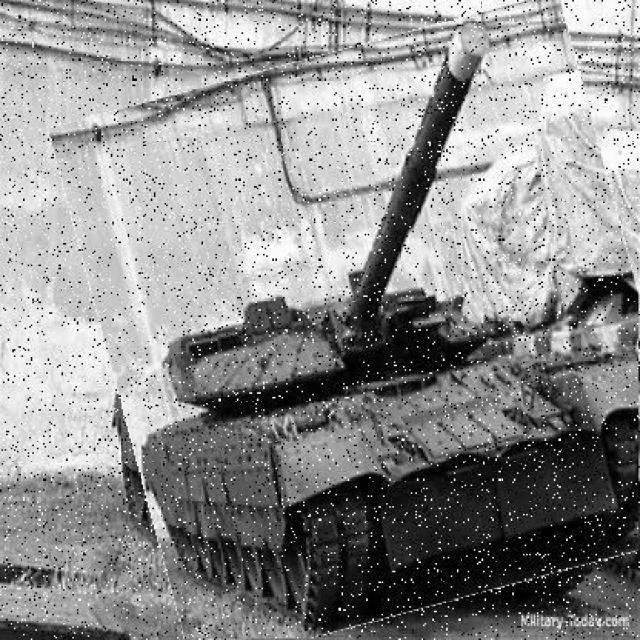Tank: (80, 23, 640, 640)
